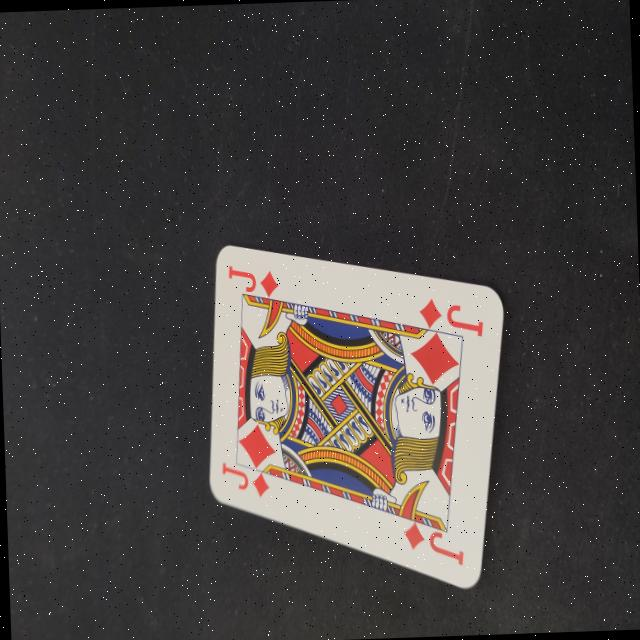Jd: (398, 505, 472, 573), (414, 292, 493, 345), (220, 254, 285, 304), (214, 453, 276, 502)
